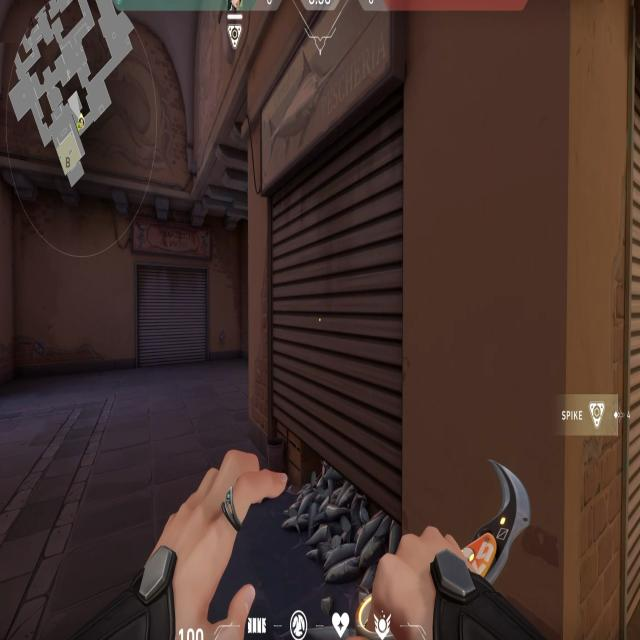B_Main_Corner: (244, 30, 416, 529)
